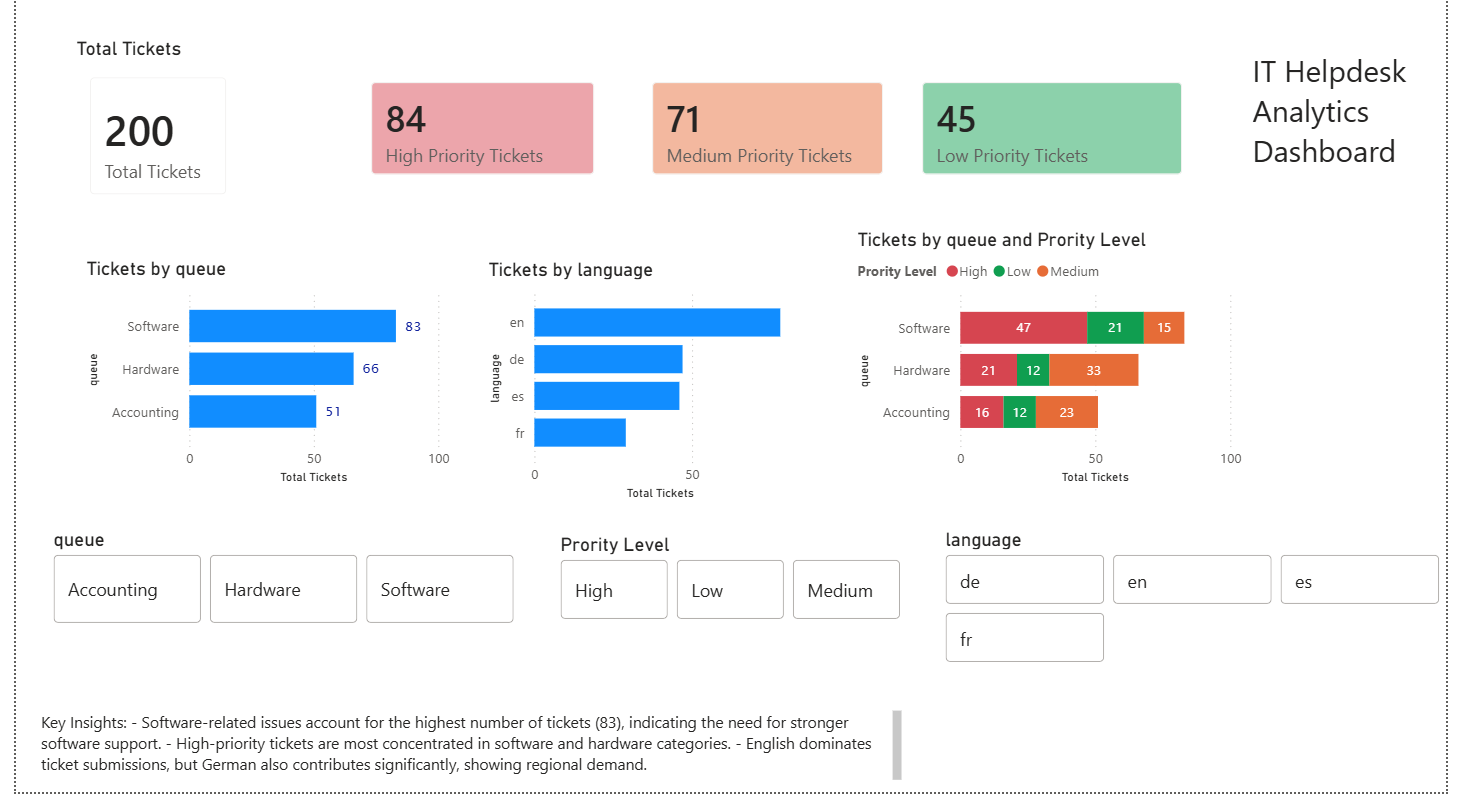

What the dashboard file says about the page in this screenshot:
{"tool":"powerbi","page":{"name":"Page 1","canvas":[1280,720],"ordinal":0},"visuals":[{"type":"clusteredBarChart","title":"Tickets by queue","fields":{"Category":["ticket_helpdesk_labeled_multi_languages_english_spain_french_german.queue"],"Y":["ticket_helpdesk_labeled_multi_languages_english_spain_french_german.Total Tickets"]},"box":[58.2,240.9,334.9,207.8],"z":0},{"type":"cardVisual","title":"Total Tickets","fields":{"Data":["ticket_helpdesk_labeled_multi_languages_english_spain_french_german.Total Tickets"]},"box":[49.3,43.9,156.7,158.5],"z":1000},{"type":"cardVisual","fields":{"Data":["ticket_helpdesk_labeled_multi_languages_english_spain_french_german.Medium Priority Tickets"]},"box":[552.5,67.2,241.8,117.3],"z":2000},{"type":"cardVisual","fields":{"Data":["ticket_helpdesk_labeled_multi_languages_english_spain_french_german.Low Priority Tickets"]},"box":[794.3,67.2,267.8,117.3],"z":3000},{"type":"cardVisual","fields":{"Data":["ticket_helpdesk_labeled_multi_languages_english_spain_french_german.High Priority Tickets"]},"box":[300.9,67.2,234.6,117.3],"z":4000},{"type":"clusteredBarChart","title":"Tickets by language","fields":{"Y":["ticket_helpdesk_labeled_multi_languages_english_spain_french_german.Total Tickets"],"Category":["ticket_helpdesk_labeled_multi_languages_english_spain_french_german.language"]},"box":[418.2,241.8,283.9,221.2],"z":5000},{"type":"barChart","title":"Tickets by queue and Prority Level","fields":{"Category":["ticket_helpdesk_labeled_multi_languages_english_spain_french_german.queue"],"Series":["ticket_helpdesk_labeled_multi_languages_english_spain_french_german.Prority Level"],"Y":["ticket_helpdesk_labeled_multi_languages_english_spain_french_german.Total Tickets"]},"box":[748.7,214.9,353.7,233.7],"z":6000},{"type":"advancedSlicerVisual","fields":{"Values":["ticket_helpdesk_labeled_multi_languages_english_spain_french_german.Prority Level"]},"box":[482.7,488.1,315.2,82.4],"z":7000},{"type":"advancedSlicerVisual","fields":{"Values":["ticket_helpdesk_labeled_multi_languages_english_spain_french_german.queue"]},"box":[28.7,483.6,422.7,90.4],"z":8000},{"type":"advancedSlicerVisual","fields":{"Values":["ticket_helpdesk_labeled_multi_languages_english_spain_french_german.language"]},"box":[827.5,483.6,452.2,126.3],"z":9000},{"type":"textbox","box":[1102,50,178,152],"z":9001},{"type":"textbox","box":[17,642.1,780.9,77.9],"z":9002}]}

Visuals, with their boxes on the page's 1280x720 design canvas (x1, y1, x2, y2). These are canvas units, not pixel positions in the 1468x798 screenshot, which may show the page scaled, cropped or inside an application window:
"Tickets by queue" clusteredBarChart: [58, 241, 393, 449]
"Total Tickets" cardVisual: [49, 44, 206, 202]
cardVisual - ticket_helpdesk_labeled_multi_languages_english_spain_french_german.Medium Priority Tickets: [552, 67, 794, 184]
cardVisual - ticket_helpdesk_labeled_multi_languages_english_spain_french_german.Low Priority Tickets: [794, 67, 1062, 184]
cardVisual - ticket_helpdesk_labeled_multi_languages_english_spain_french_german.High Priority Tickets: [301, 67, 536, 184]
"Tickets by language" clusteredBarChart: [418, 242, 702, 463]
"Tickets by queue and Prority Level" barChart: [749, 215, 1102, 449]
advancedSlicerVisual - ticket_helpdesk_labeled_multi_languages_english_spain_french_german.Prority Level: [483, 488, 798, 570]
advancedSlicerVisual - ticket_helpdesk_labeled_multi_languages_english_spain_french_german.queue: [29, 484, 451, 574]
advancedSlicerVisual - ticket_helpdesk_labeled_multi_languages_english_spain_french_german.language: [828, 484, 1280, 610]
textbox: [1102, 50, 1280, 202]
textbox: [17, 642, 798, 720]
